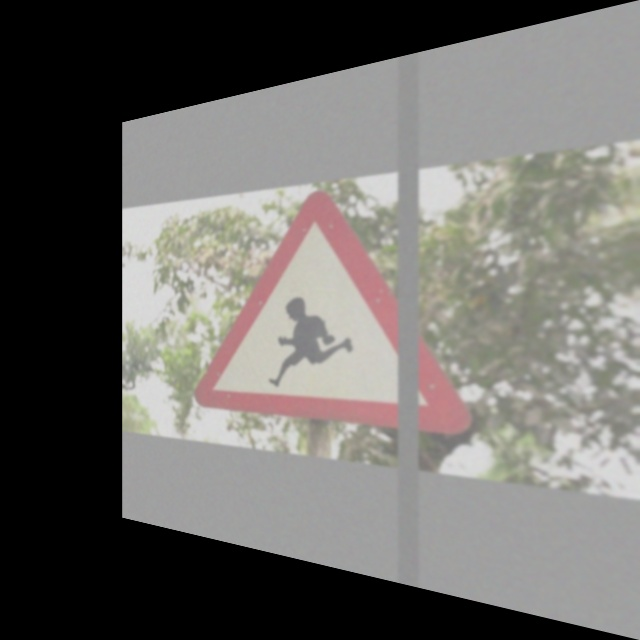School_Ahead: (202, 175, 467, 435)
